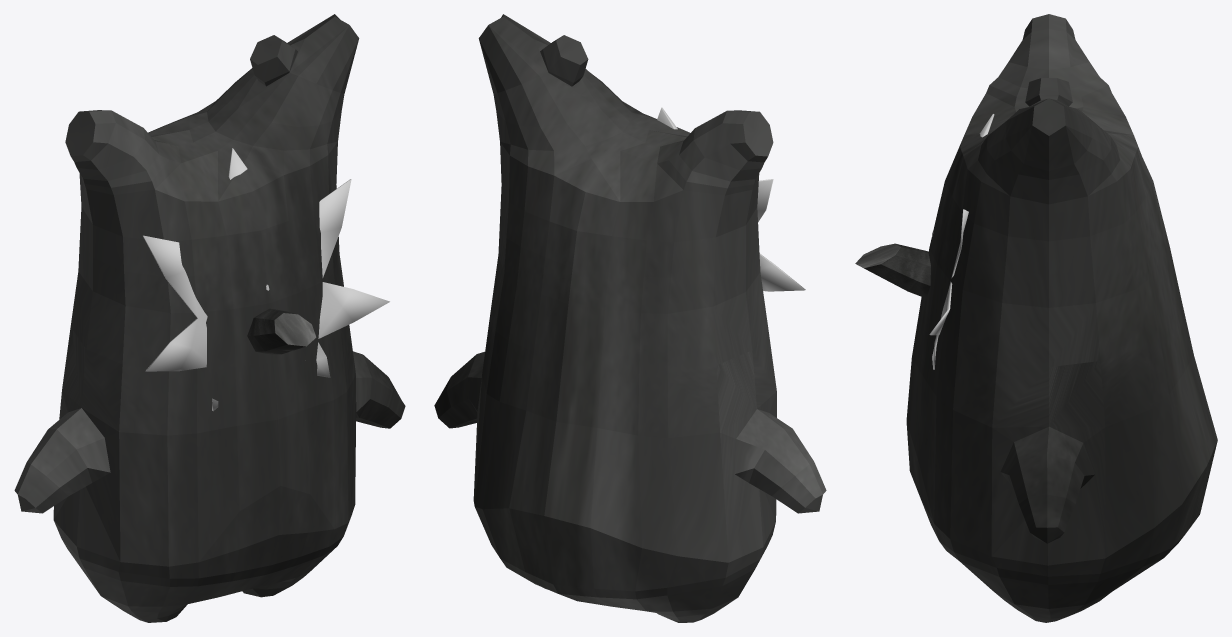
File: frame_0024.obj
The picture shows the model from 3 angles, left to right: view 1: azimuth 30°, elevation 25°; view 2: azimuth 150°, elevation 25°; view 3: azimuth 270°, elevation 25°; orthographic projection.
Visible parts, largest first — view 1: korok, leaf, nose; view 2: korok, leaf; view 3: korok, nose, leaf.
Part boxes in pixels (<box>): korok: <box>14,14,405,622</box>; leaf: <box>143,148,389,411</box>; nose: <box>247,308,316,354</box>; korok: <box>434,14,826,622</box>; leaf: <box>657,107,805,291</box>; korok: <box>906,14,1217,622</box>; nose: <box>855,243,930,298</box>; leaf: <box>929,114,994,369</box>.
Bounding box in the file's own units: 1.66 × 2.3 × 1.36.
